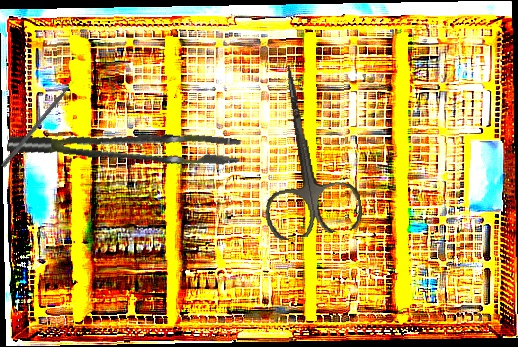Iris Scissors: (243, 57, 365, 243)
Pusher: (0, 75, 81, 169)
Tissue Forceps: (6, 104, 243, 187)
